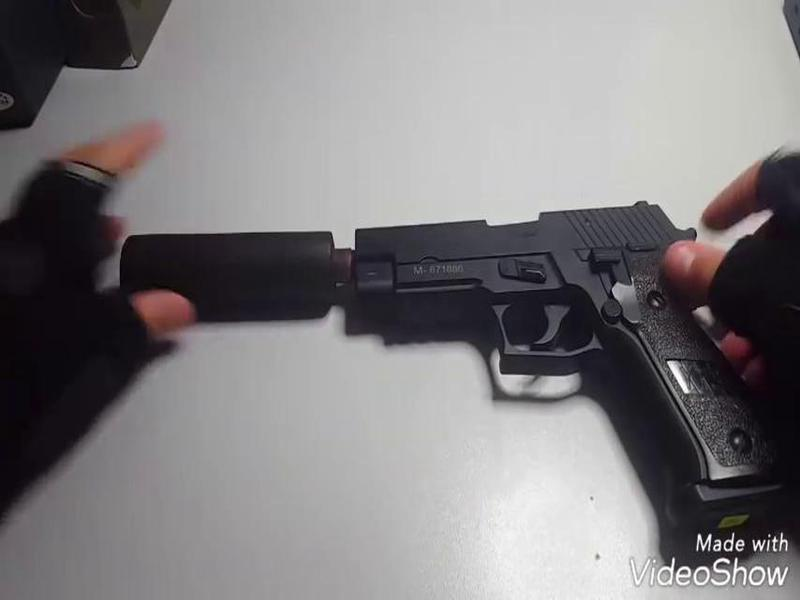Pistola: (332, 185, 800, 527)
